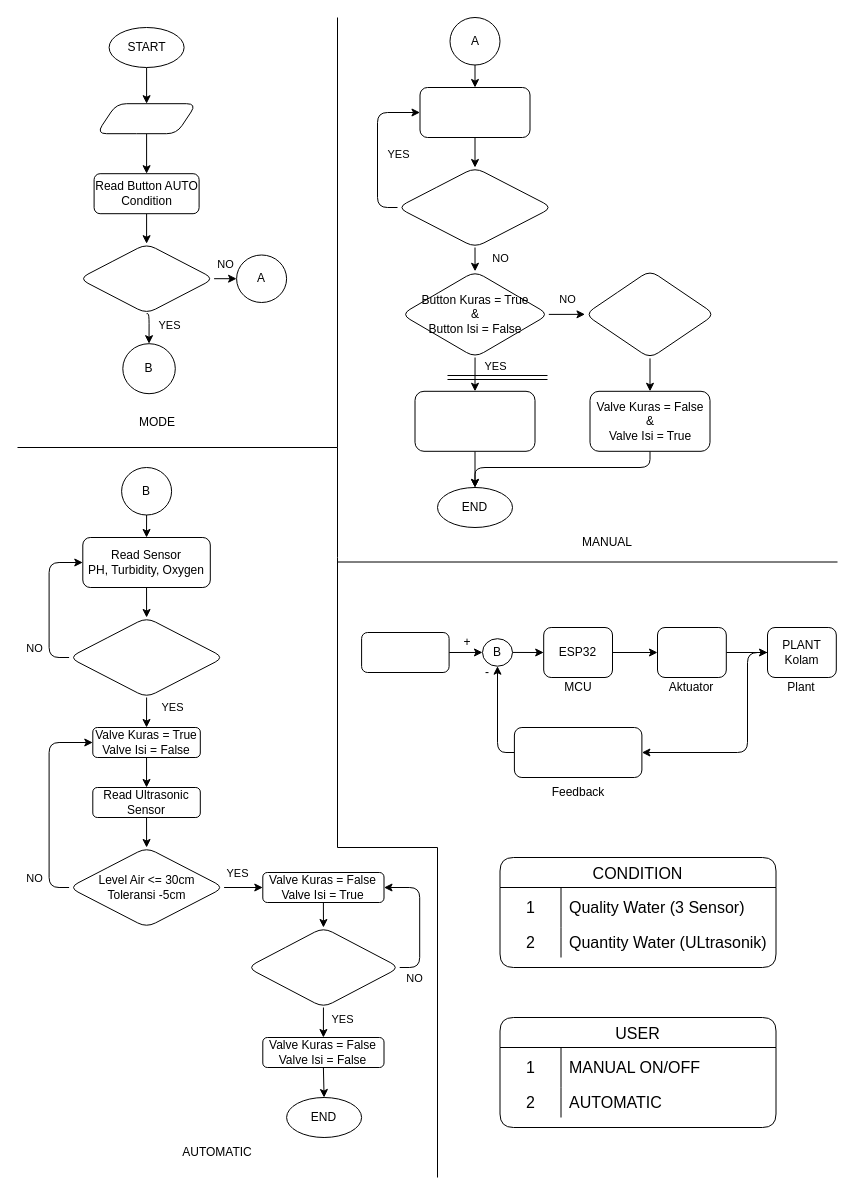
The diagram is 856 pixels wide and 1196 high, and some of its shapes have lost their labels. The centre of each missing label's shape, as x and y in pixels:
Button AUTO = True: (146,278)
Button Kuras = False & Button Isi = False: (474,207)
Button Kuras = False & Button Isi = True: (649,313)
Initialization: (146,118)
Level Air >= 80 cm Toleransi -5cm: (323,967)
Pembacaan Sensor: (577,752)
Read Button Kuras & Button Isi Condition: (474,112)
Sensor >= Setpoint: (146,657)
Setpoint 4 Sensor: (405,652)
VALVE: (691,652)
Valve Kuras = True & Valve Isi = False: (474,420)
